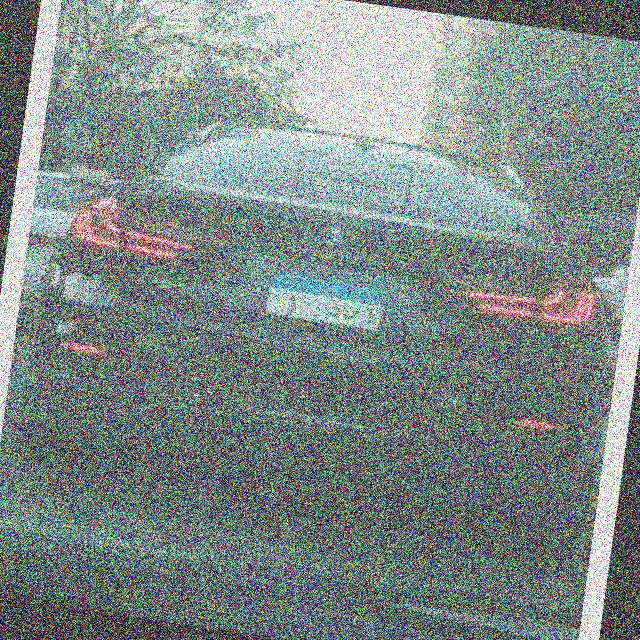License Plate: (261, 266, 389, 334)
